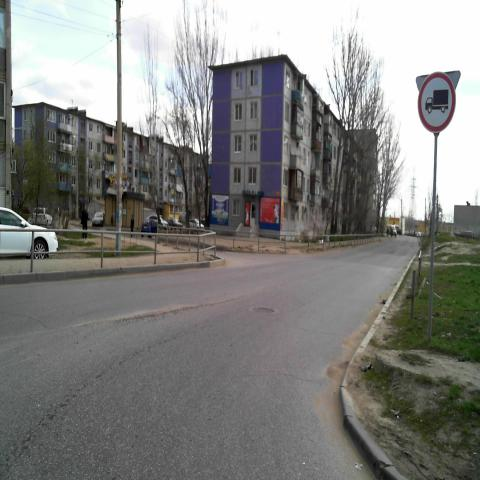3_4_1: (418, 69, 456, 132)
